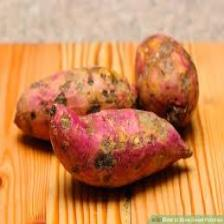Defected potato: (43, 91, 201, 196), (12, 60, 141, 145), (136, 26, 202, 136)
